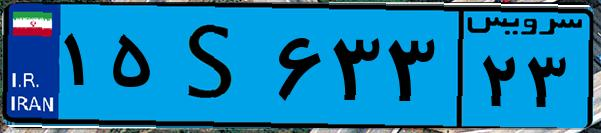1: (57, 26, 110, 100)
2: (475, 38, 525, 113)
3: (385, 28, 445, 110), (330, 28, 385, 110), (525, 38, 570, 115)
5: (110, 28, 158, 98)
6: (270, 28, 330, 110)
S: (158, 12, 270, 120)
